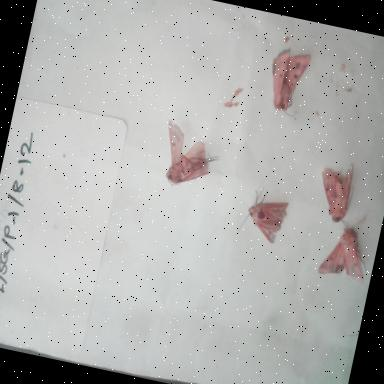abw: (150, 114, 228, 203), (256, 40, 318, 127), (311, 214, 379, 290), (232, 179, 296, 250), (307, 154, 363, 232)
